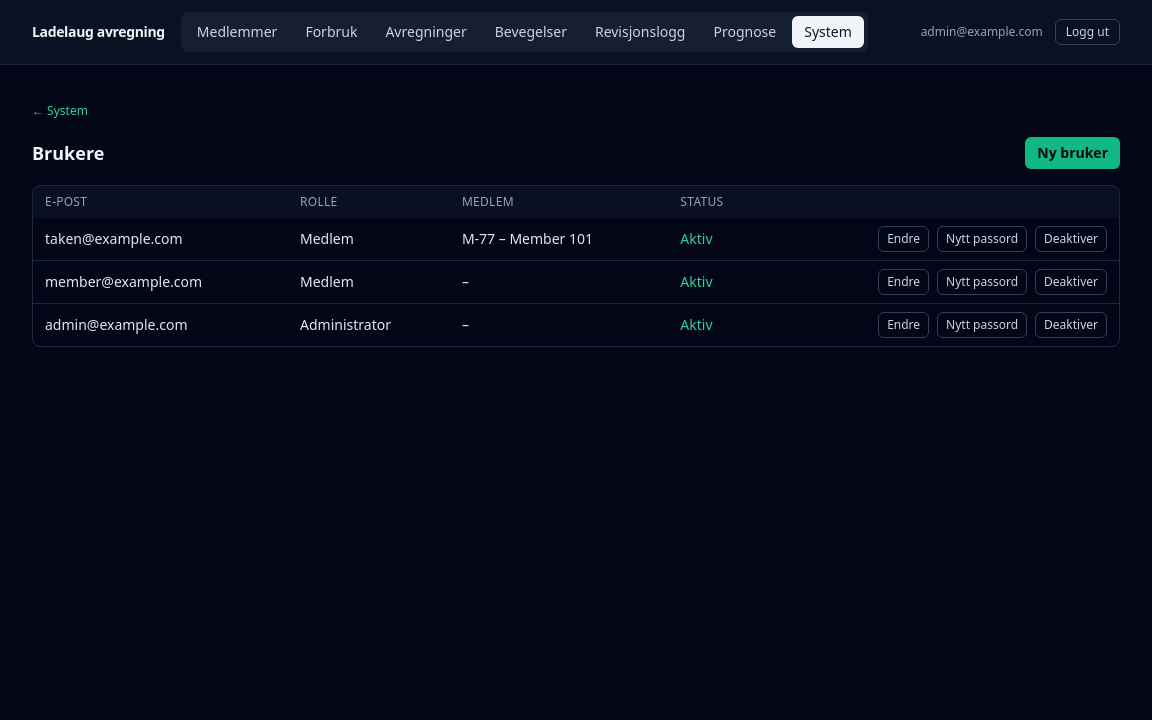
Test: Users (admin) › surfaces the member_linked 422 when the member already has a login
The width and height of the screenshot is (1152, 720).
Click the button "Ny bruker" at (1073, 153), box [1025, 137, 1120, 169]
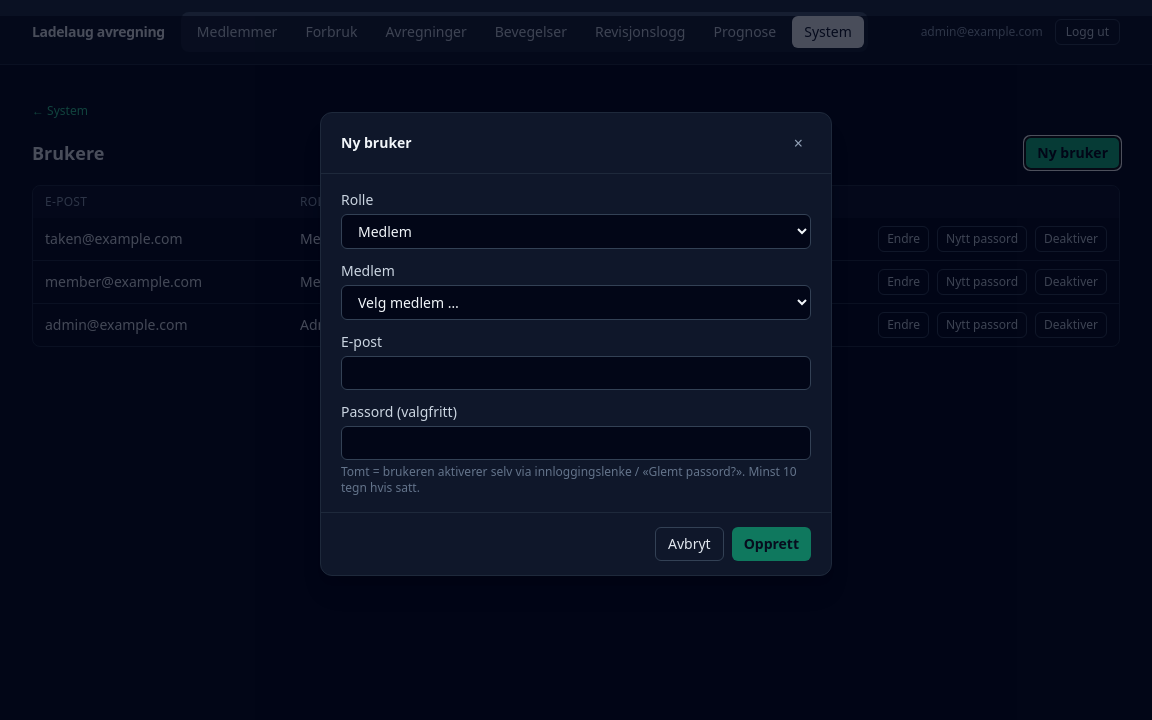
Select "Administrator" in the dropdown labelled "Rolle" at (576, 232), box [341, 214, 811, 249]
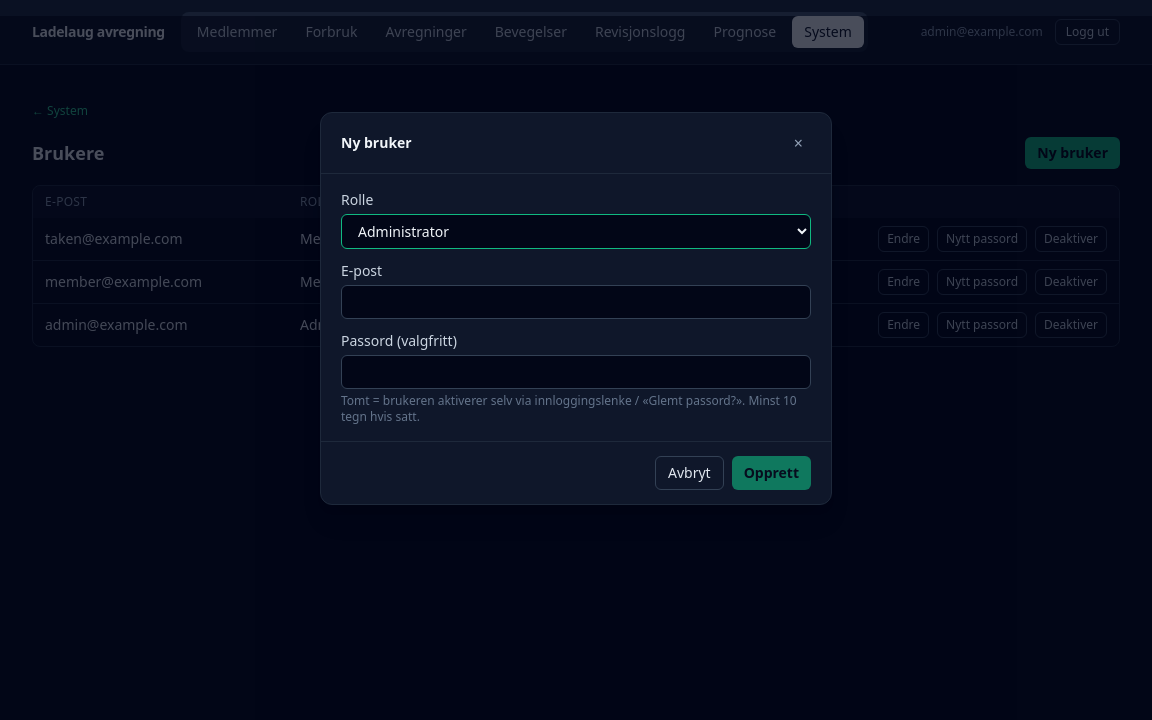
Type "admin@example.com" into the field labelled "E-post" at (576, 302), box [341, 285, 811, 319]
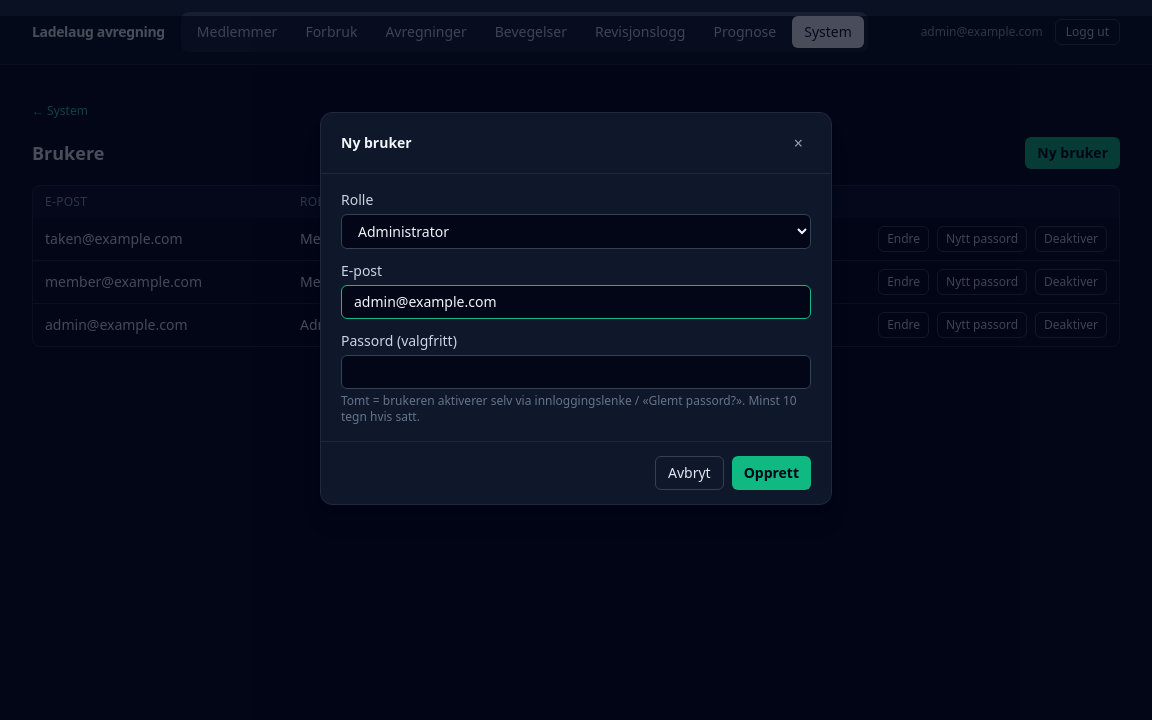
Click the button "Opprett" at (771, 473), box [732, 456, 811, 490]
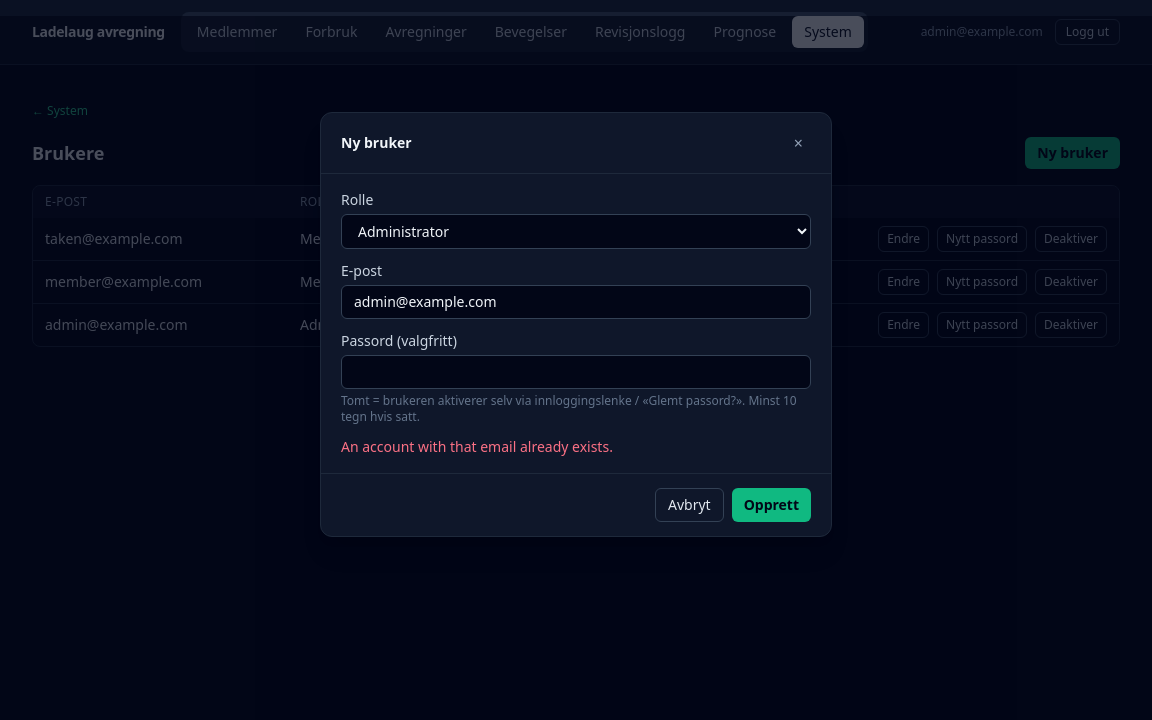
Now the message shows "already exists", box [341, 437, 613, 456]
